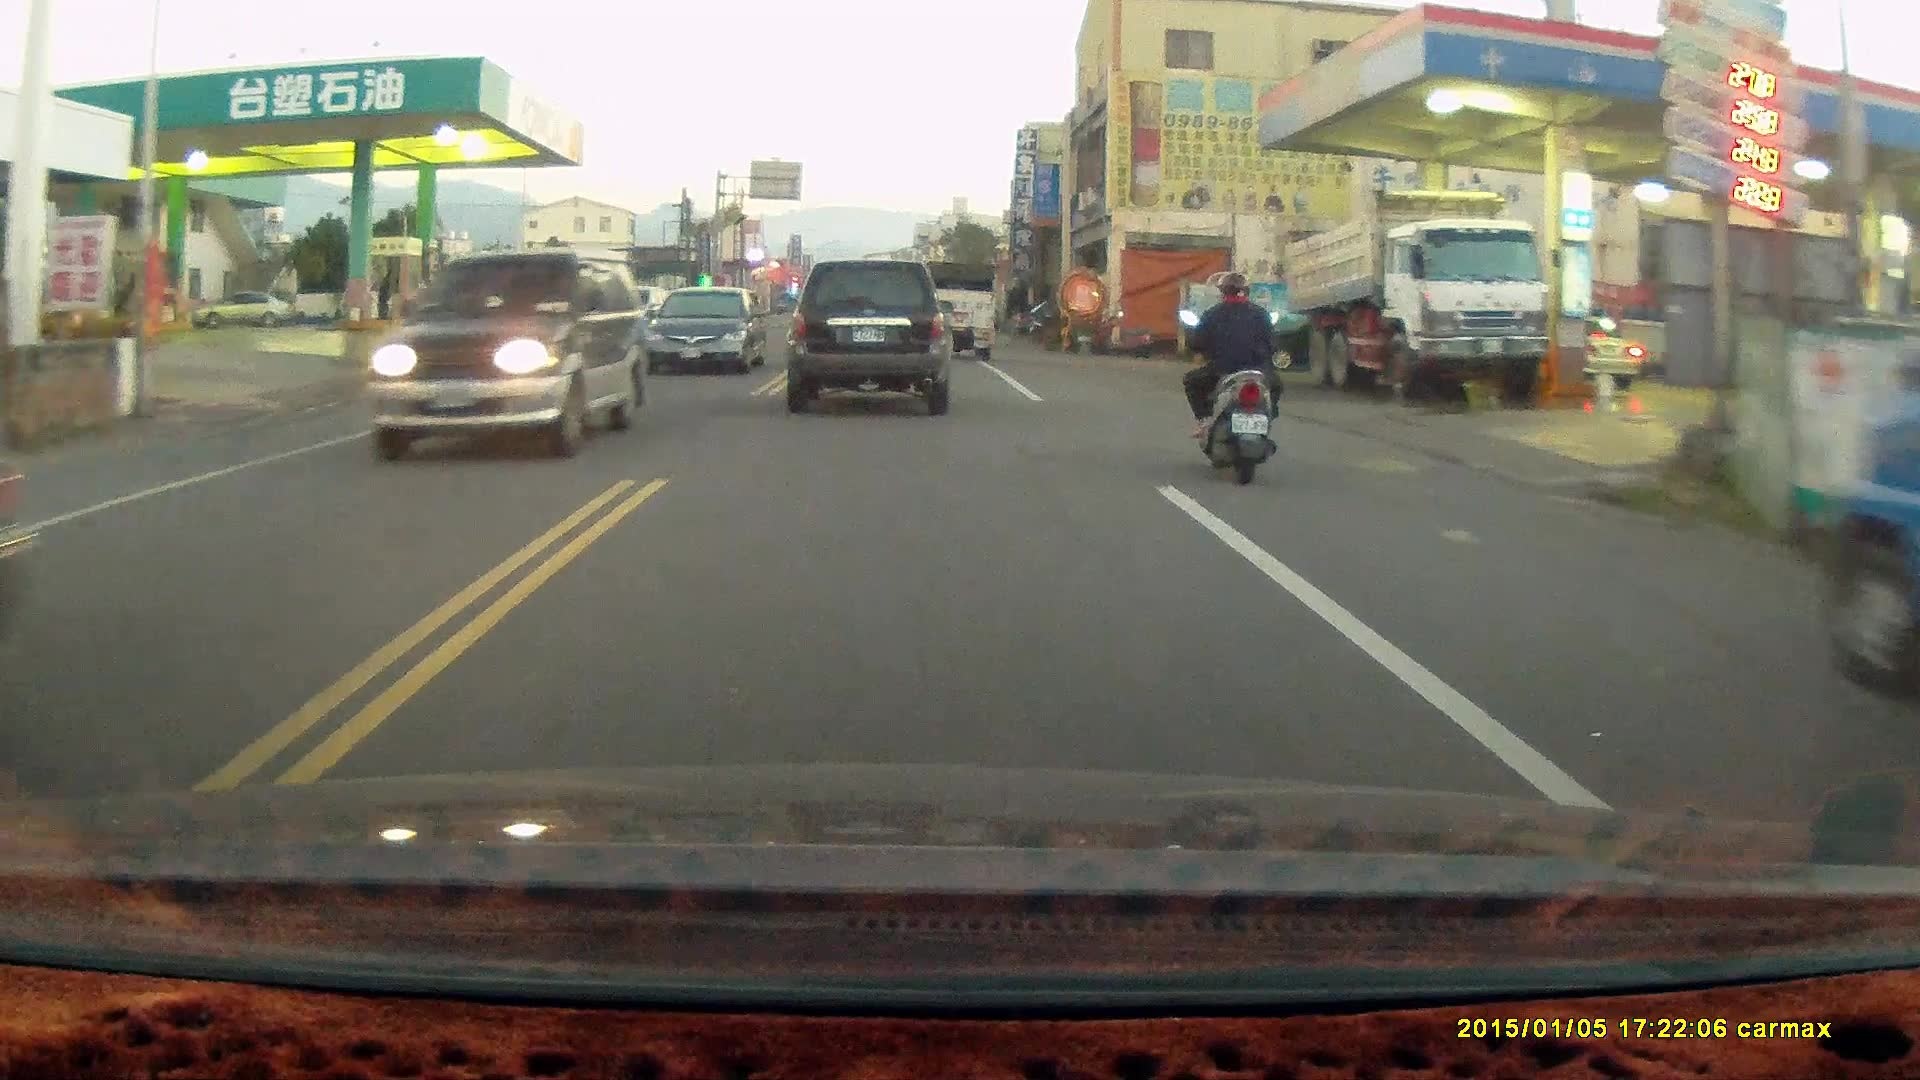rider: (1177, 269, 1284, 486)
vehicle: (361, 244, 649, 458), (1280, 187, 1553, 405), (791, 259, 954, 416), (647, 287, 772, 378), (903, 253, 996, 352)
